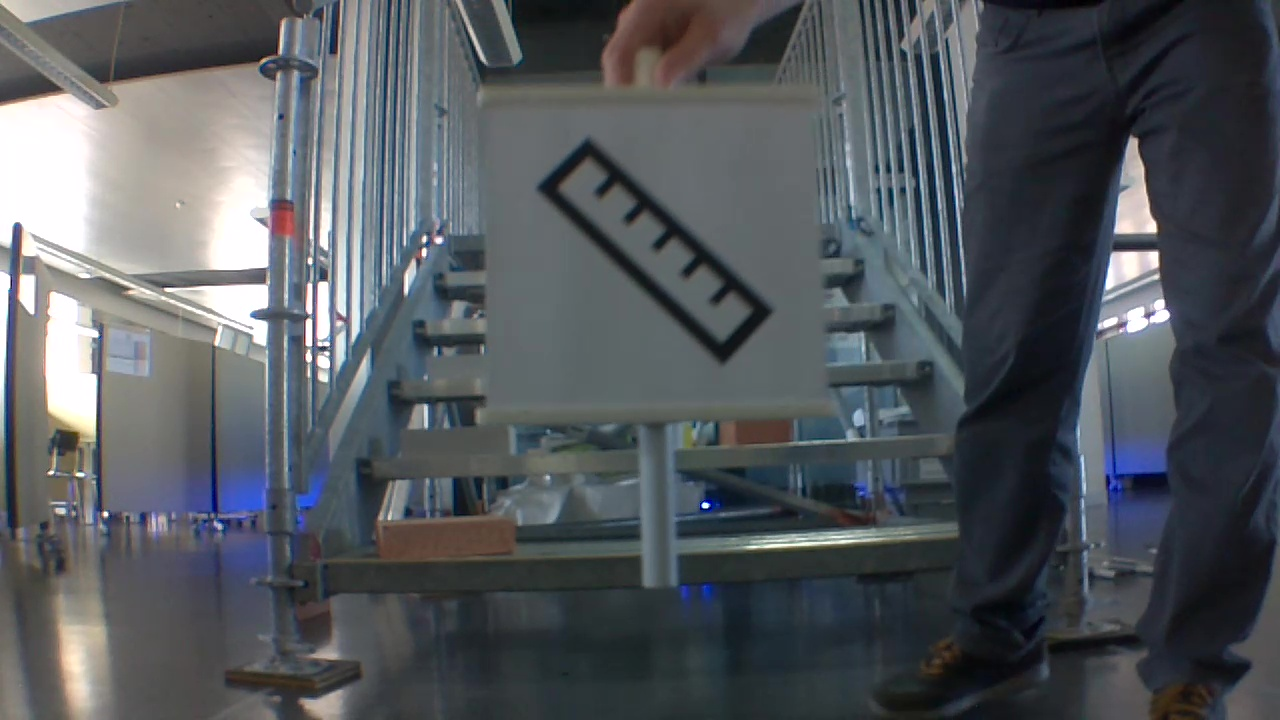brick: (374, 513, 518, 561), (401, 424, 516, 449), (716, 414, 796, 440), (423, 355, 485, 381)
edge: (360, 429, 960, 483), (329, 536, 977, 579)
ruler: (531, 133, 781, 377)
